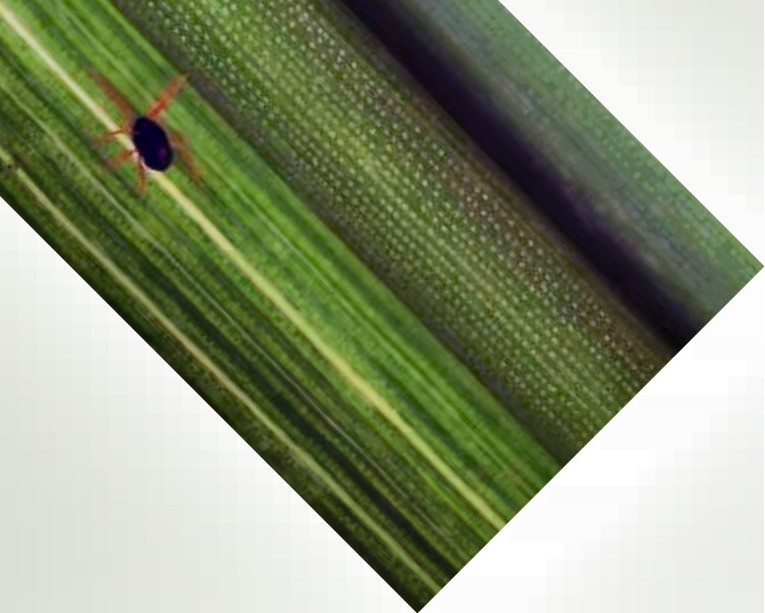Wheat Red Spider: (74, 59, 224, 198)
